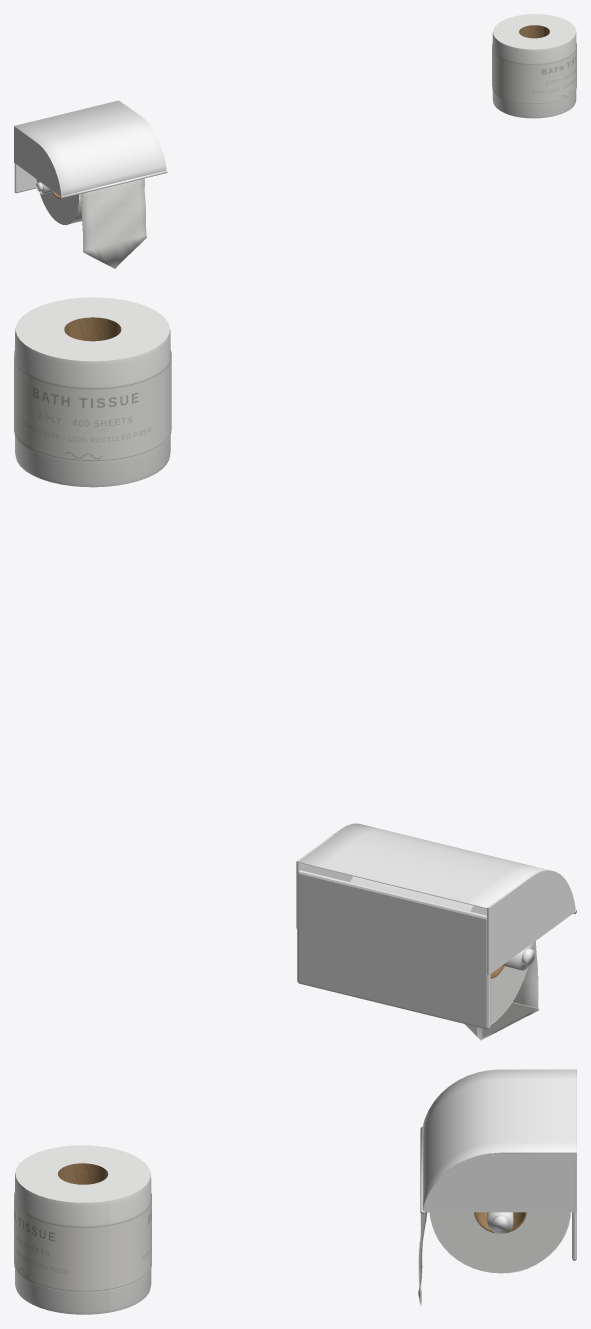
The model's file is hotel-tp-holder.glb.
3 renders of one model, top to bottom at view 1: azimuth 30°, elevation 25°; view 2: azimuth 150°, elevation 25°; view 3: azimuth 270°, elevation 25°, orthographic. The views are drawn at different scales.
Parts seen in each view (by area): view 1: chrome_spotted, take_roll_spare, roll_tail, take_roll; view 2: chrome_spotted, take_roll_spare, take_roll, roll_tail; view 3: chrome_spotted, take_roll_spare, take_roll, roll_tail.
Part boxes in pixels (bbox=[...]): chrome_spotted: bbox=[14, 100, 167, 198]; take_roll_spare: bbox=[492, 14, 576, 118]; roll_tail: bbox=[81, 178, 146, 268]; take_roll: bbox=[36, 178, 144, 224]; chrome_spotted: bbox=[296, 823, 576, 1029]; take_roll_spare: bbox=[14, 297, 171, 487]; take_roll: bbox=[350, 876, 533, 1024]; roll_tail: bbox=[464, 941, 538, 1040]; chrome_spotted: bbox=[420, 1069, 576, 1260]; take_roll_spare: bbox=[14, 1145, 151, 1314]; take_roll: bbox=[429, 1212, 570, 1273]; roll_tail: bbox=[418, 1212, 427, 1306].
Bounding box in the file's own units: 0.6163 × 0.3425 × 0.4559.
3 materials, 1 textured.
